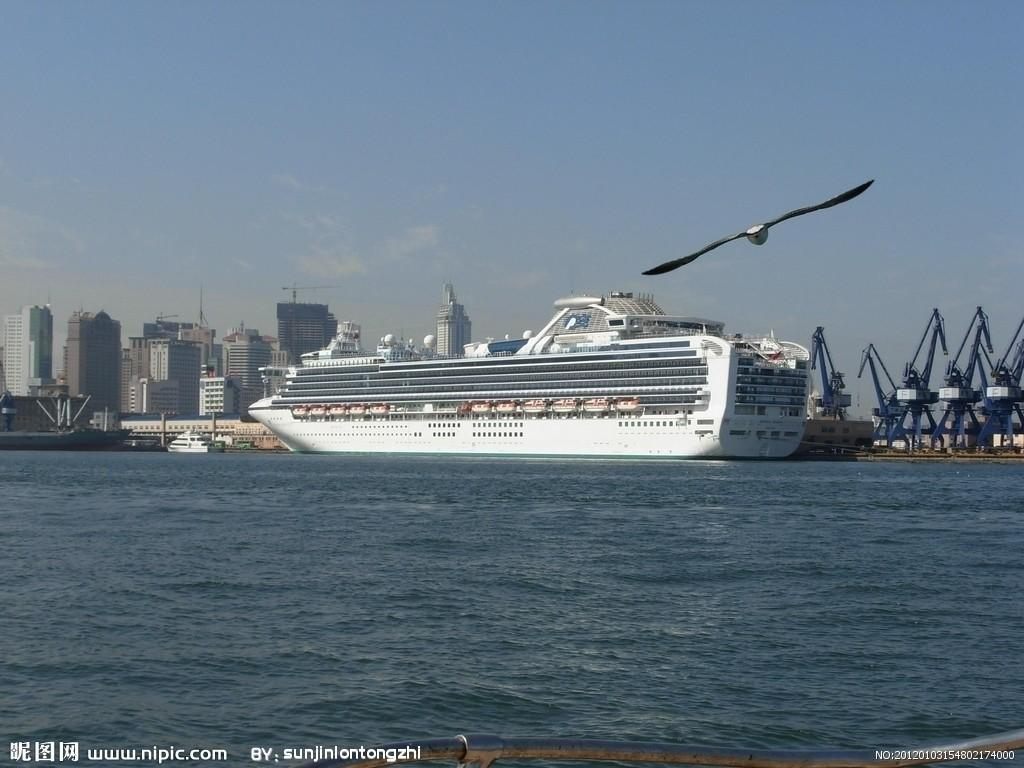bird: (643, 166, 875, 281)
youlun: (247, 288, 819, 459)
